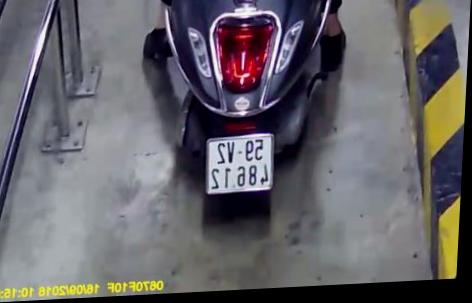License_Plate: (197, 126, 278, 201)
